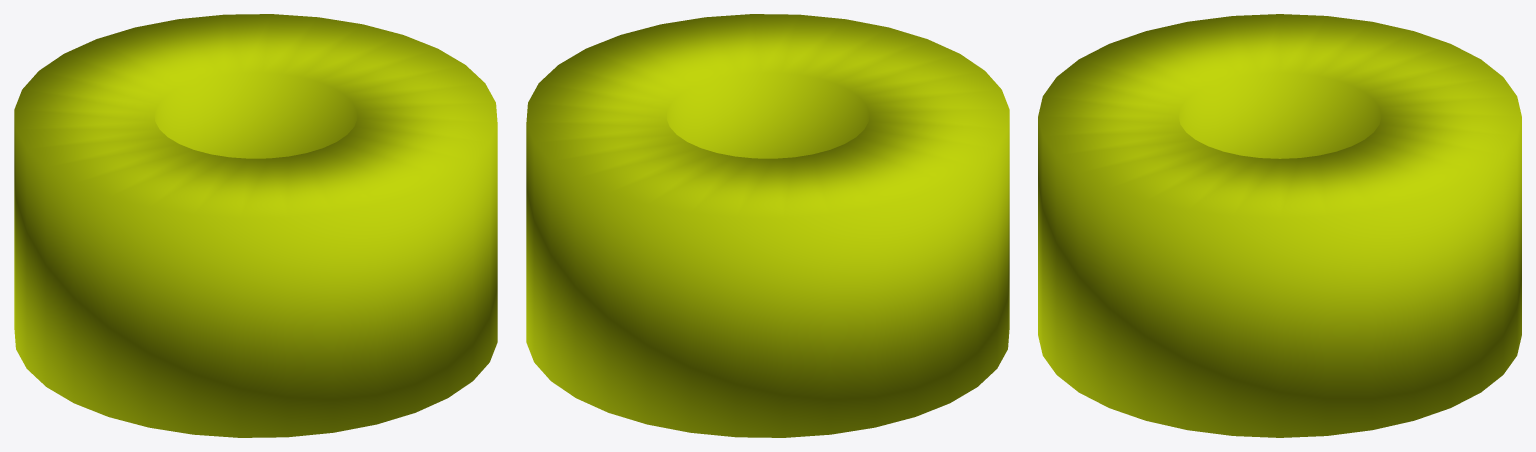
The model's file is cilindro.fbx.
The picture shows the model from 3 angles, left to right: view 1: azimuth 30°, elevation 25°; view 2: azimuth 150°, elevation 25°; view 3: azimuth 270°, elevation 25°; orthographic projection.
Parts seen in each view (by area): view 1: Circle; view 2: Circle; view 3: Circle.
Boxes of the visible parts, x1,y1,x2,y2 form: Circle: (14,14,497,437); Circle: (526,14,1009,437); Circle: (1038,14,1521,437).
Size of the model in its own units: 2.29 by 1.15 by 2.29.
